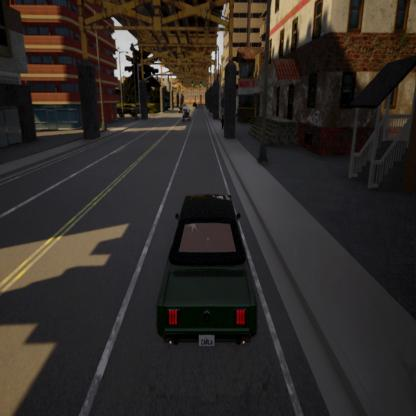Cars: (158, 194, 258, 347), (116, 104, 139, 117), (182, 105, 191, 119), (179, 105, 184, 112), (183, 110, 185, 122)
Pedestrian: (221, 111, 225, 129)
